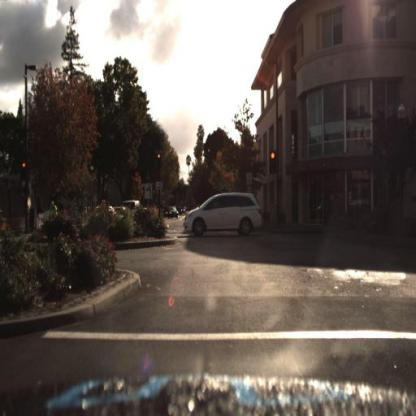biker: (44, 197, 62, 219)
car: (181, 195, 267, 240), (120, 199, 145, 227)
trafficLight-Red: (269, 147, 278, 173), (22, 156, 30, 175), (156, 145, 163, 166)
